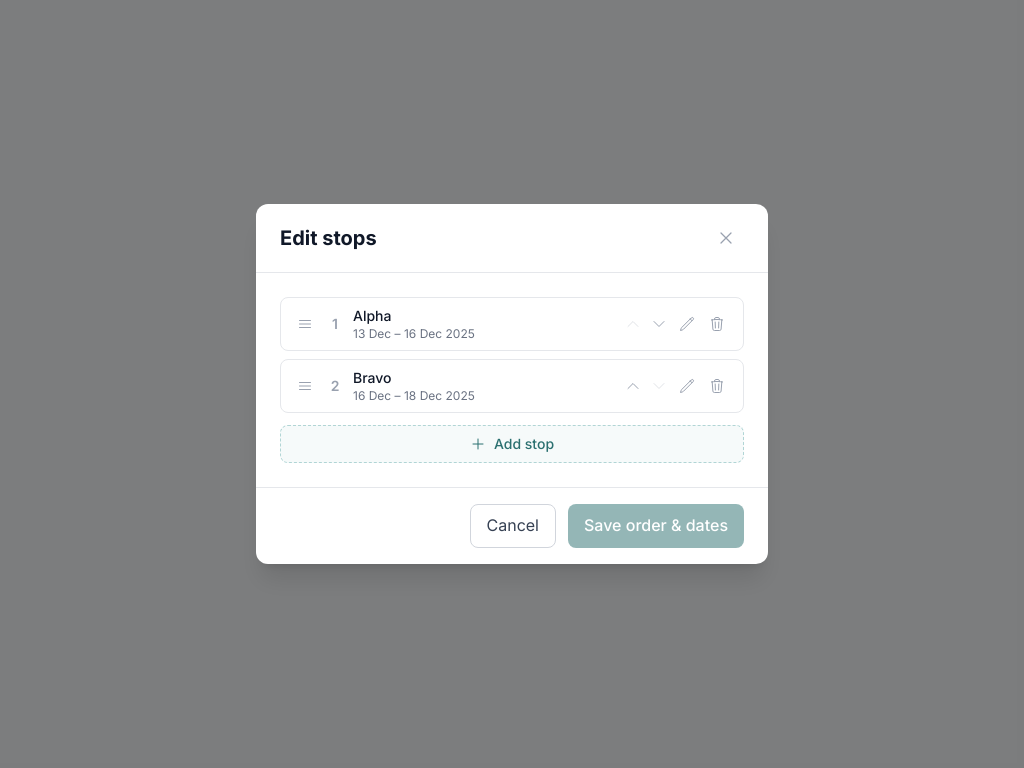
StopsEditor › previews the cascaded dates after a reorder
Click the button named "Move Bravo up" at point(633, 386), box [621,374,645,398]
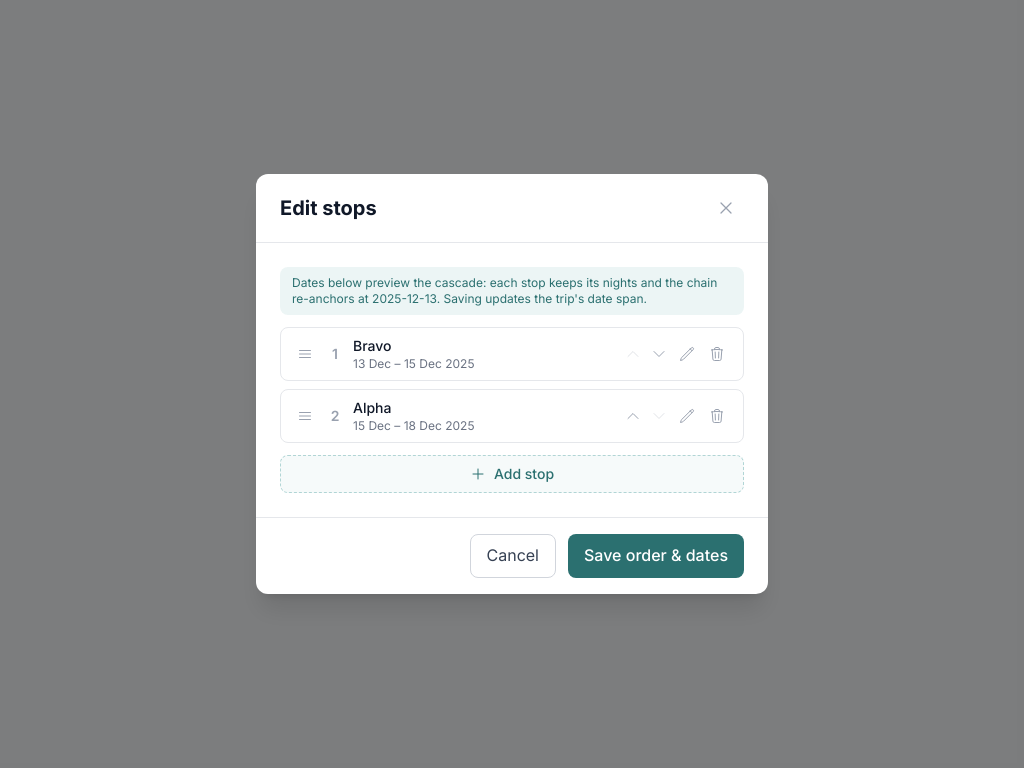
Now the text "13 Dec – 15 Dec 2025" is shown, box [353,356,474,371]
Now the text "15 Dec – 18 Dec 2025" is shown, box [353,418,474,433]
Now the button "Save order & dates" is enabled, box [568,534,744,578]
